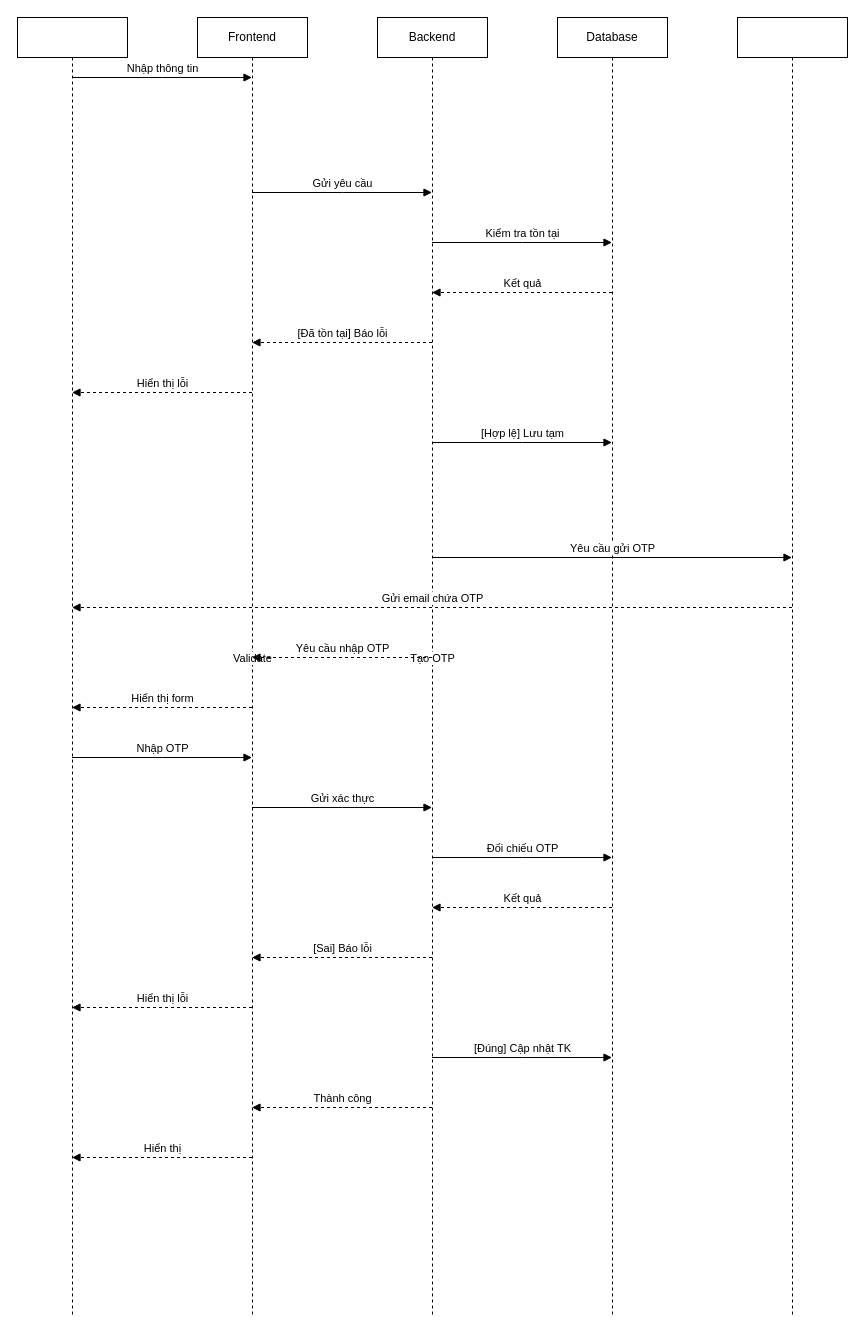
Image size: 865x1335. Some labels were removed from this diagram. The box of each missing label's shape, as (x1, y1, x2, y2) in pixels:
Email Service: (736, 16, 848, 1318)
Khách Hàng: (16, 16, 128, 1318)
